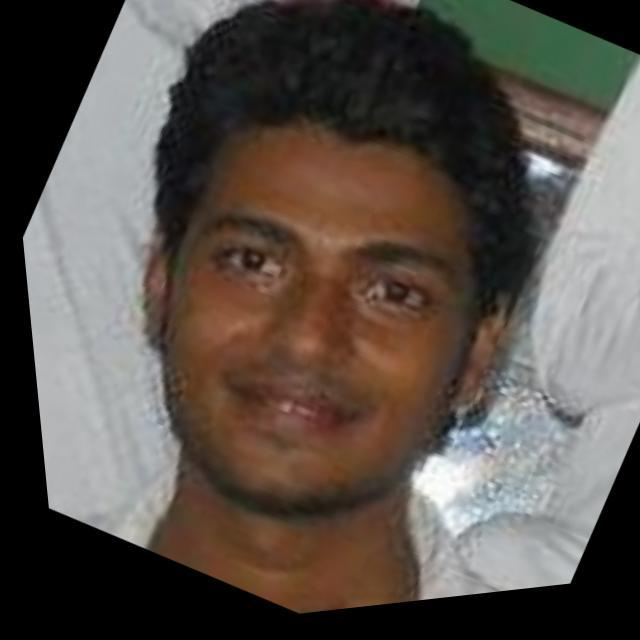Nonhelmet: (135, 0, 542, 517)
